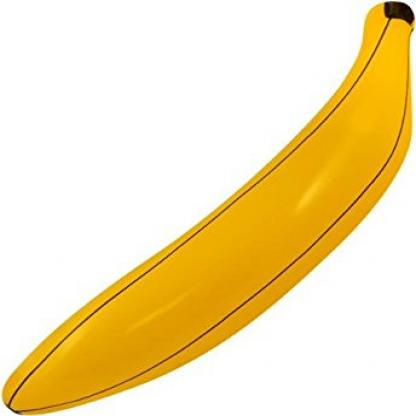banana: (5, 13, 401, 412)
